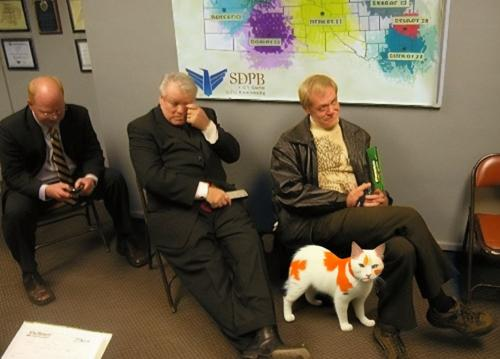cat: (281, 237, 386, 329)
chair: (458, 155, 500, 308), (136, 173, 179, 313), (3, 201, 112, 256)
person: (270, 75, 496, 359), (128, 72, 312, 359), (2, 77, 150, 307)
person/foot: (425, 294, 495, 336), (242, 327, 311, 359), (374, 323, 408, 359), (22, 273, 55, 306), (115, 240, 149, 268)
person/hand: (346, 182, 372, 208), (186, 104, 209, 131), (207, 187, 230, 209), (46, 183, 70, 202), (364, 189, 389, 206), (74, 178, 95, 195)
person/head: (299, 74, 341, 130), (158, 71, 199, 125), (26, 75, 65, 127)
